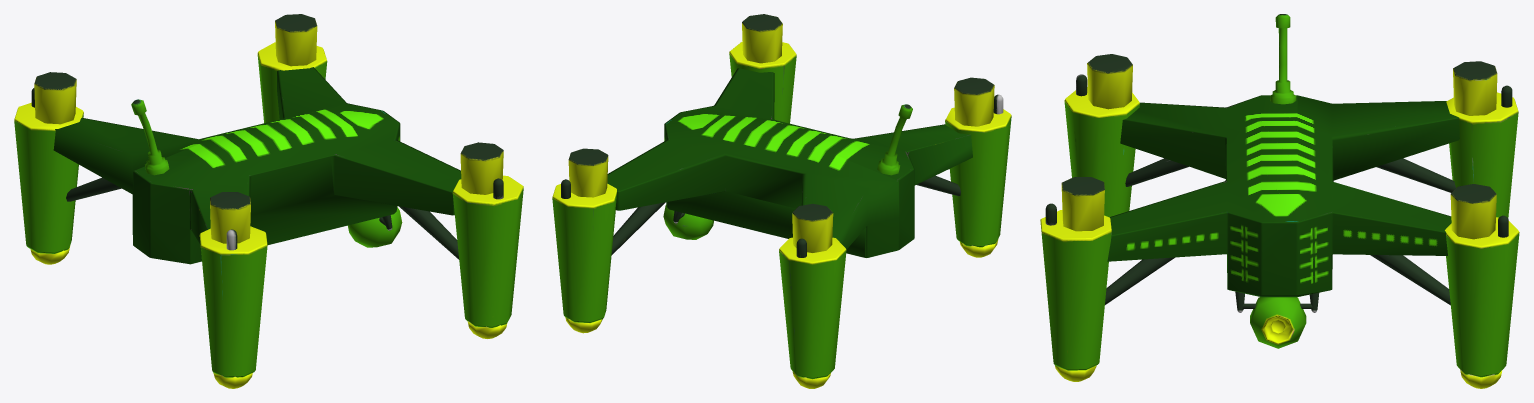
Rendered from SM_Dron_SM_Dron_B.fbx.
3 views of the same model, side by side, from view 1: azimuth 30°, elevation 25°; view 2: azimuth 150°, elevation 25°; view 3: azimuth 270°, elevation 25° (orthographic). The views are drawn at different scales.
Parts seen in each view (by area): view 1: SM_Dron_SM_Dron_B; view 2: SM_Dron_SM_Dron_B; view 3: SM_Dron_SM_Dron_B.
Part boxes in pixels (x1,y1,x2,y2): SM_Dron_SM_Dron_B: [14, 14, 523, 388]; SM_Dron_SM_Dron_B: [552, 14, 1011, 388]; SM_Dron_SM_Dron_B: [1040, 14, 1519, 388].
Size of the model in its own units: 51.48 by 66.47 by 37.53.
1 material, 1 textured.
